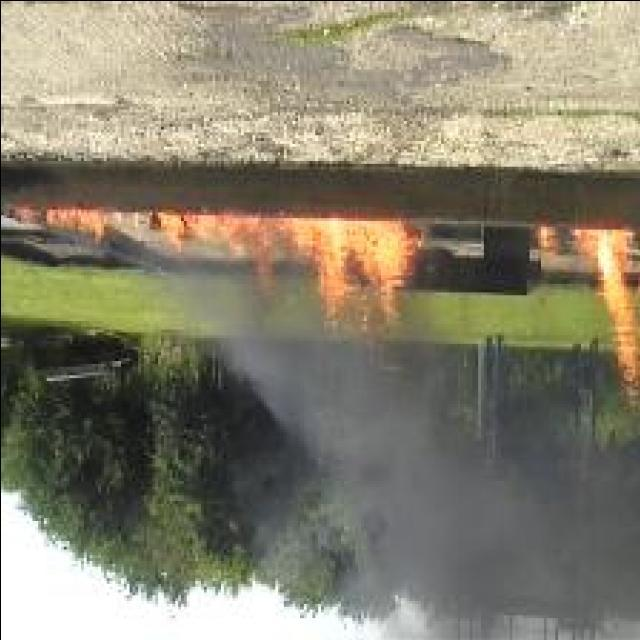Fire: (153, 212, 416, 338), (566, 230, 640, 402), (0, 208, 106, 243)
